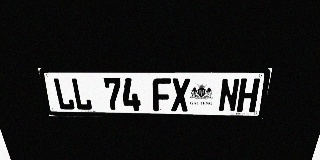4: (121, 78, 141, 111)
7: (102, 78, 123, 111)
F: (152, 78, 171, 111)
H: (236, 78, 260, 112)
L: (52, 78, 76, 110), (70, 78, 93, 110)
N: (218, 78, 240, 112)
X: (171, 78, 190, 111)
